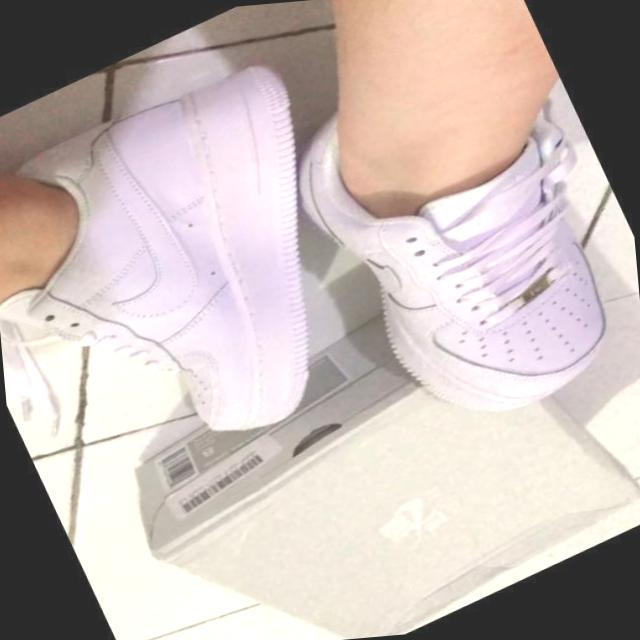nike_fake_airforce: (262, 13, 640, 465)
